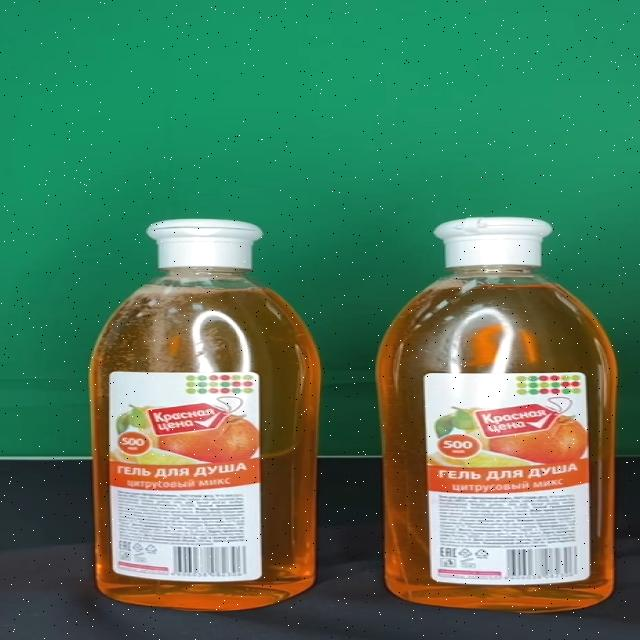Bottle: (374, 218, 619, 612), (89, 219, 322, 612)
Cap: (144, 220, 264, 270), (434, 218, 552, 266)
